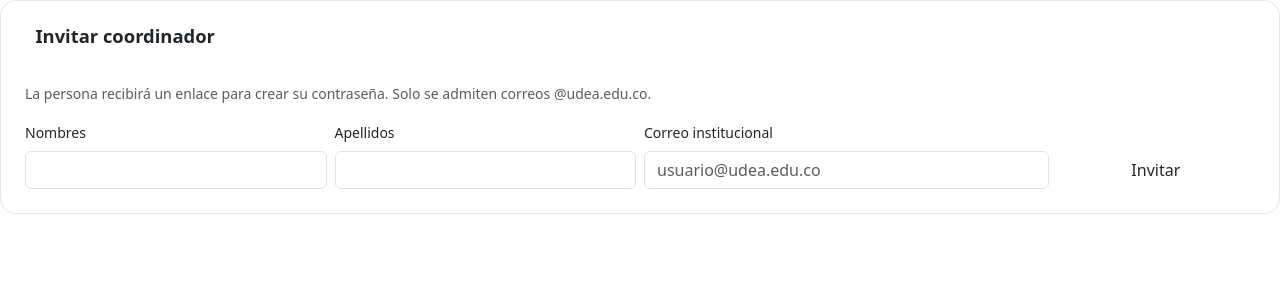
Test: InvitarCoordinadorForm › exige nombres y muestra conflictos del servidor
The image size is (1280, 286).
Click the button "Invitar" at point(1156, 170), box [1057,151,1255,189]
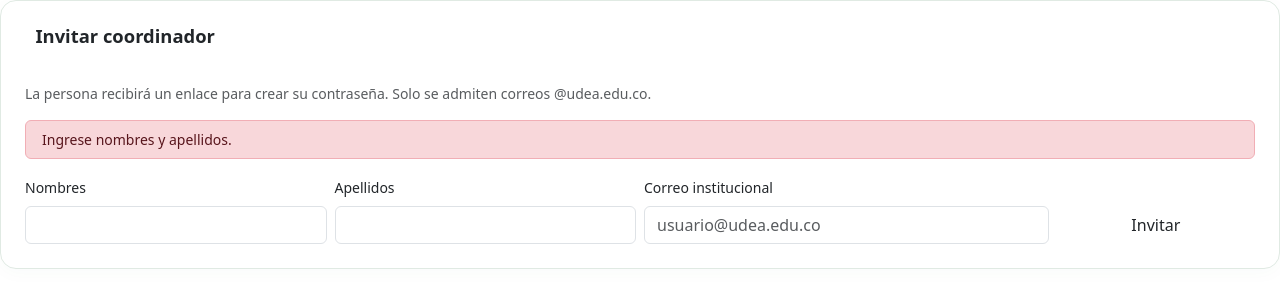
Expected: the message shows "Ingrese nombres y apellidos", [42,130,232,149]
Type "Laura" into the field labelled "Nombres" at point(176, 225), box [25,206,326,244]
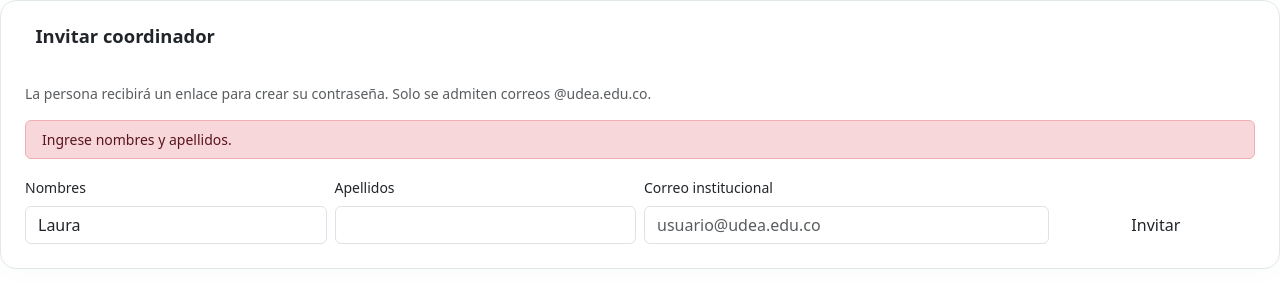
Type "Gómez" into the field labelled "Apellidos" at point(485, 225), box [334,206,636,244]
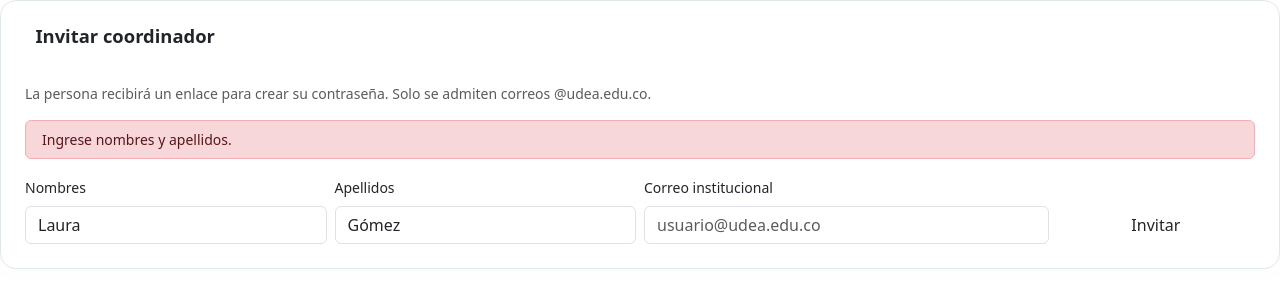
Type "laura.gomez@udea.edu.co" into the field labelled "Correo institucional" at point(846, 225), box [644,206,1049,244]
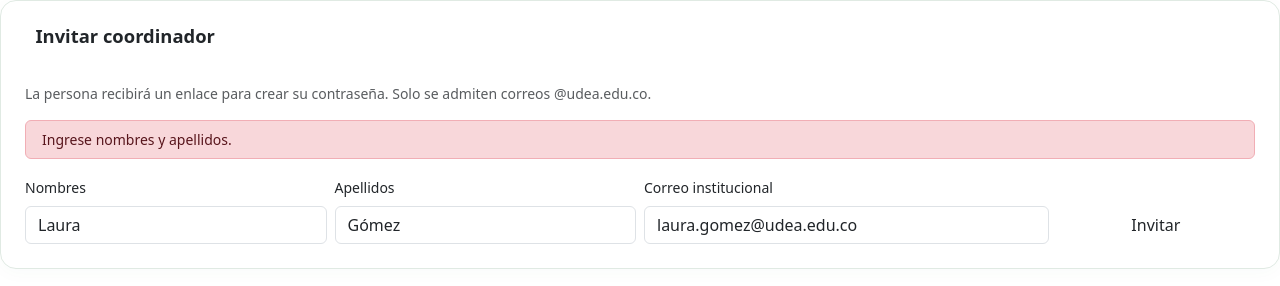
Click the button "Invitar" at point(1156, 225), box [1057,206,1255,244]
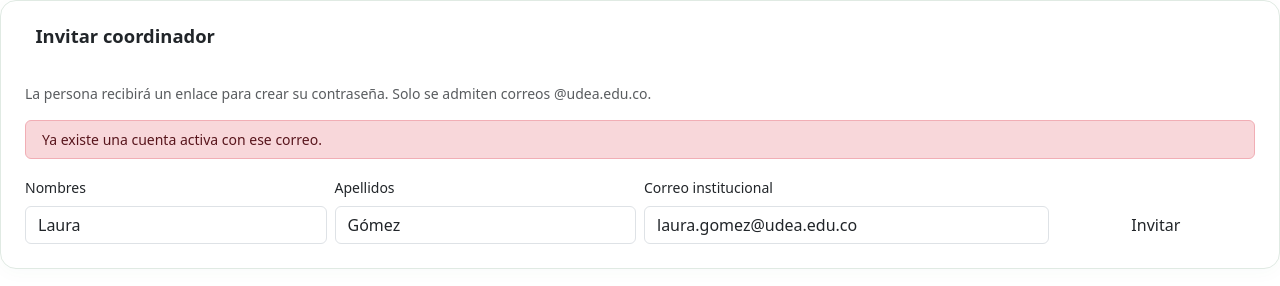
Expected: the message shows "Ya existe una cuenta activa", [42,130,322,149]
